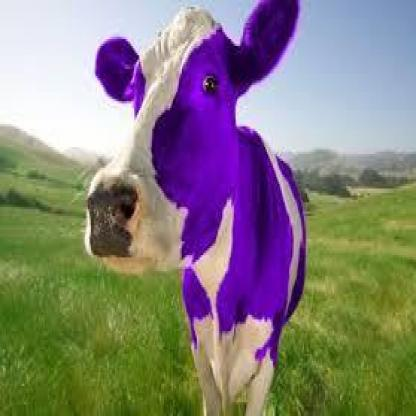cow: (84, 0, 306, 416)
